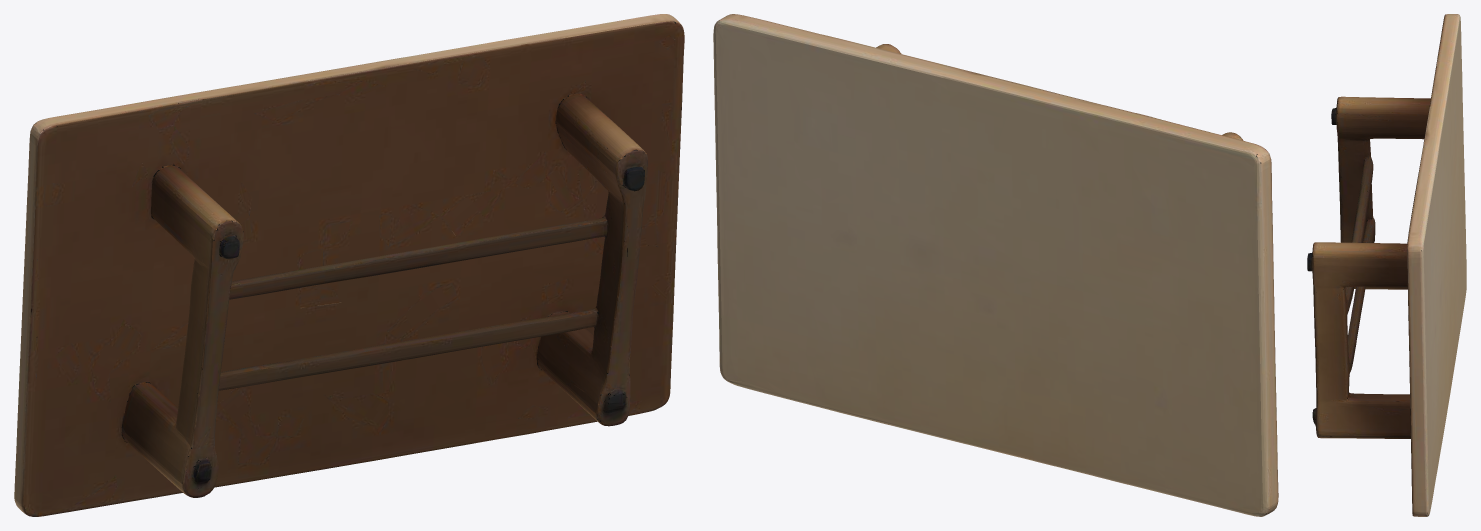
File: wooden_chair_in_the_back_left_000.glb
The picture shows the model from 3 angles, left to right: view 1: azimuth 30°, elevation 25°; view 2: azimuth 150°, elevation 25°; view 3: azimuth 270°, elevation 25°; orthographic projection. The views are drawn at different scales.
Visible parts, largest first — view 1: wooden_chair_in_the_back_left_000.obj; view 2: wooden_chair_in_the_back_left_000.obj; view 3: wooden_chair_in_the_back_left_000.obj.
Boxes of the visible parts, left/top/right/bottom form: wooden_chair_in_the_back_left_000.obj: left=14, top=14, right=684, bottom=516; wooden_chair_in_the_back_left_000.obj: left=713, top=14, right=1278, bottom=516; wooden_chair_in_the_back_left_000.obj: left=1307, top=14, right=1466, bottom=516.
Bounding box in the file's own units: 0.2141 × 0.133 × 0.0648.
Materials: 1 (1 with a texture image).
